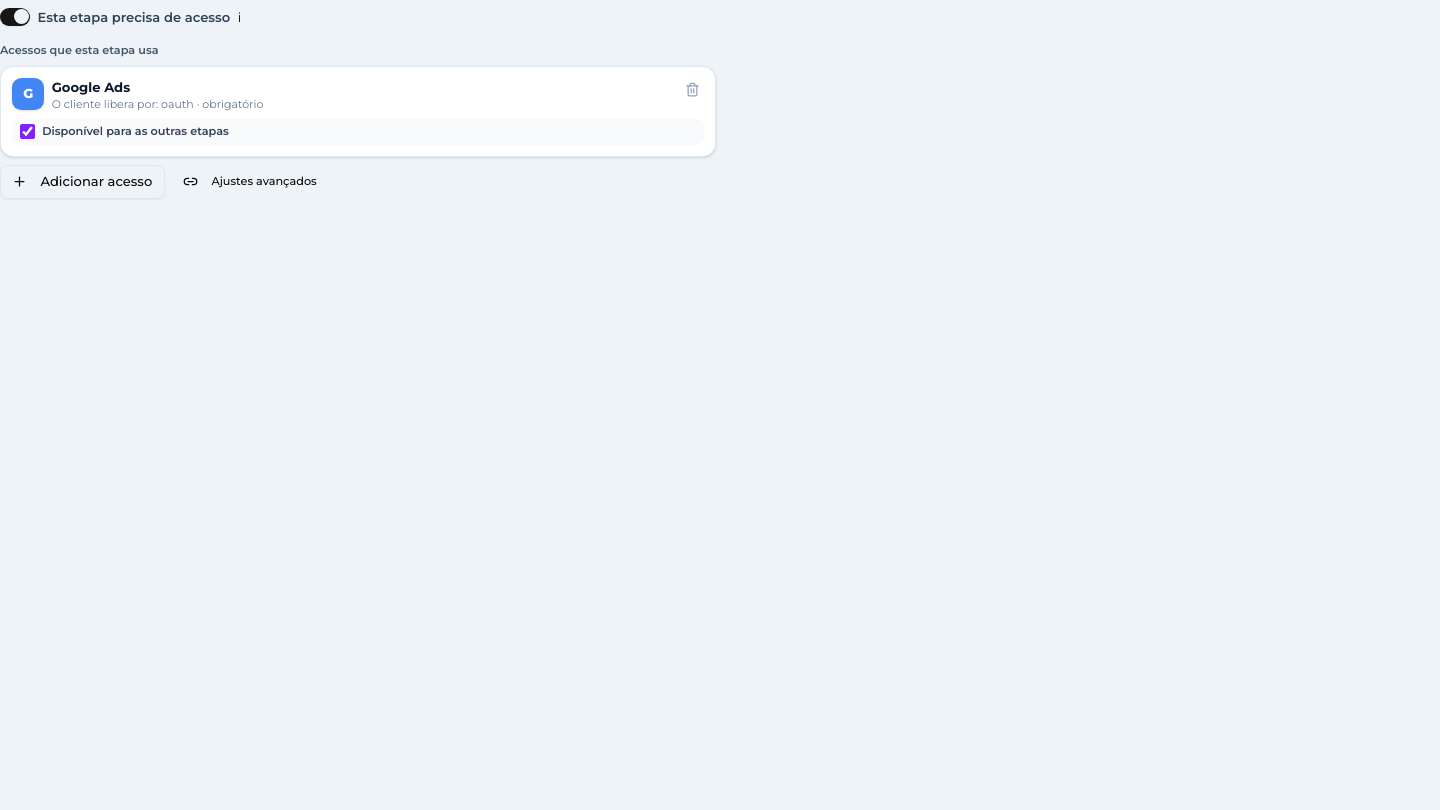
acessos da etapa: escolher da lista de tipos cadastrados › desligar uma etapa cujo acesso é usado por outras pergunta: desativar em todas ou passar para uma delas (que vira a etapa mãe)
Later steps or results of the test are not shown.
Click the switch named "Esta etapa precisa de acesso": (15, 17) [0, 8, 30, 26]
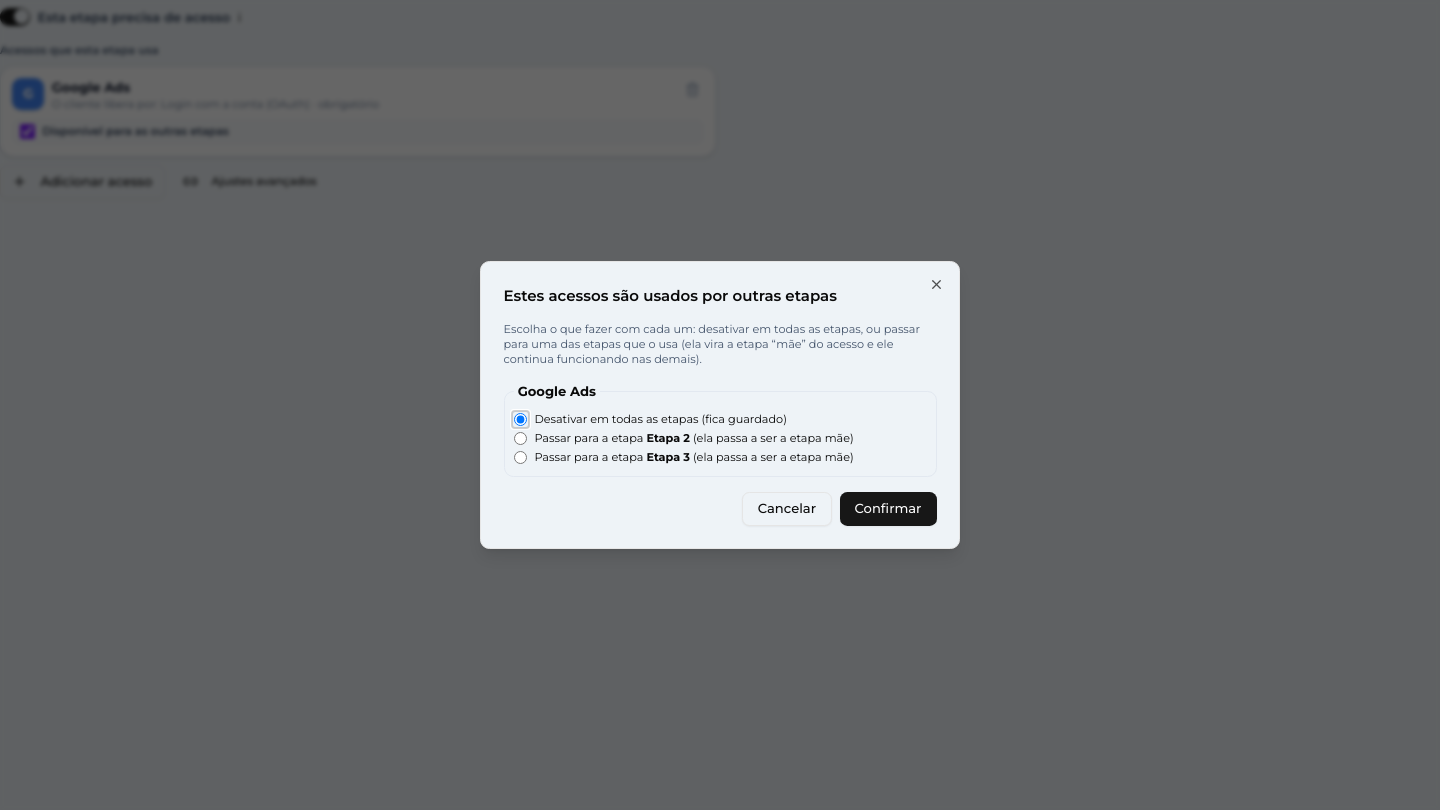
Result: the dialog with test id "access-transfer-dialog" shows "Desativar em todas as etapas" at [504, 322, 920, 366]
Result: the dialog with test id "access-transfer-dialog" shows "Passar para a etapa Etapa 2" at [480, 261, 960, 549]
Result: the dialog with test id "access-transfer-dialog" shows "Passar para a etapa Etapa 3" at [480, 261, 960, 549]
